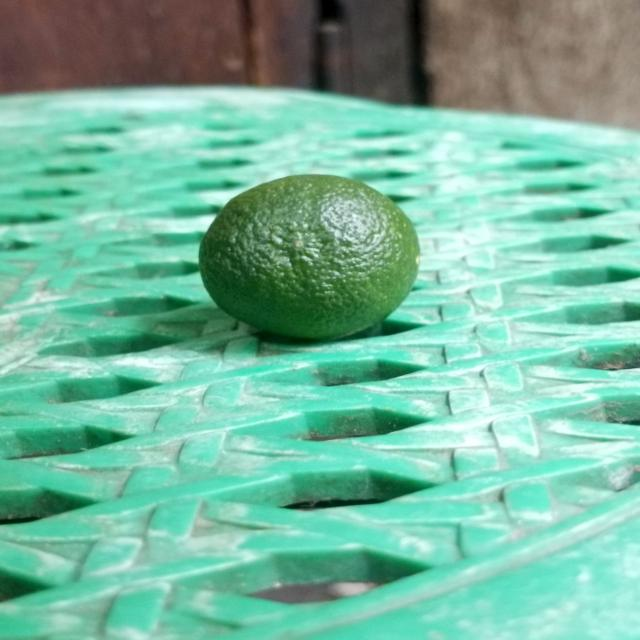heathy: (197, 172, 423, 337)
